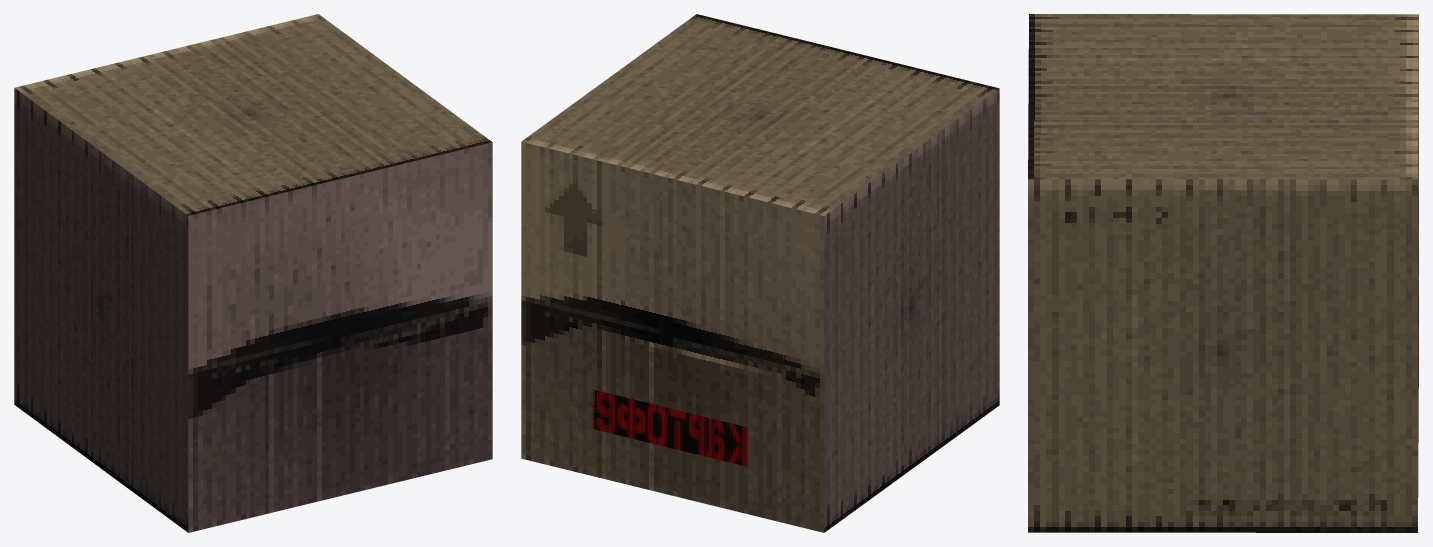
The model's file is primary_237.glb.
The picture shows the model from 3 angles, left to right: view 1: azimuth 30°, elevation 25°; view 2: azimuth 150°, elevation 25°; view 3: azimuth 270°, elevation 25°; orthographic projection. The views are drawn at different scales.
Parts seen in each view (by area): view 1: Object; view 2: Object; view 3: Object.
Boxes of the visible parts, bbox=[...] form: Object: bbox=[14, 14, 492, 532]; Object: bbox=[521, 14, 999, 532]; Object: bbox=[1028, 14, 1418, 532].
Bounding box in the file's own units: 1.1 × 1.09 × 1.1.
7 materials, 7 textured.
